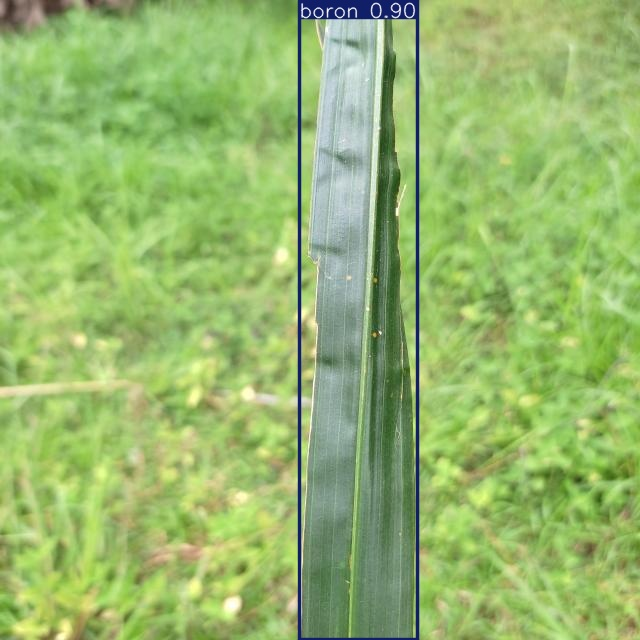nitrogen: (299, 0, 417, 640)
